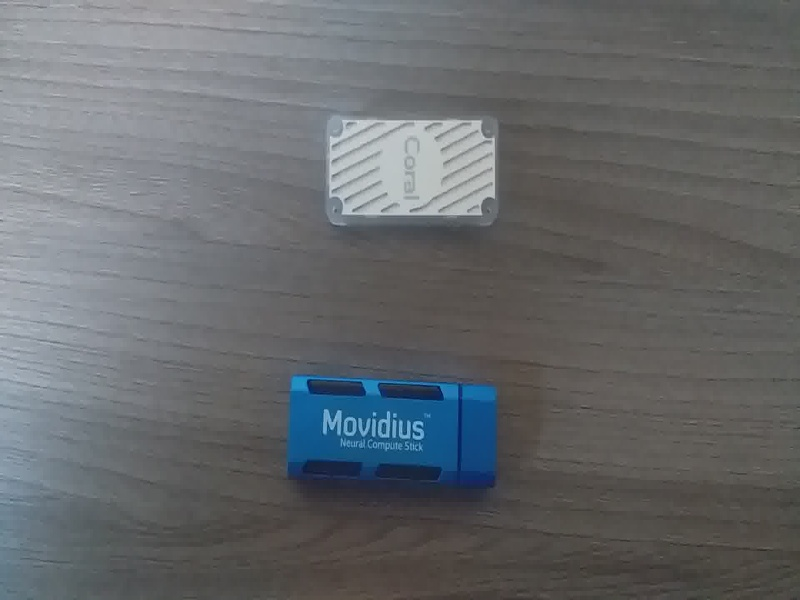coral: (319, 102, 516, 250)
movidius: (279, 370, 505, 497)
